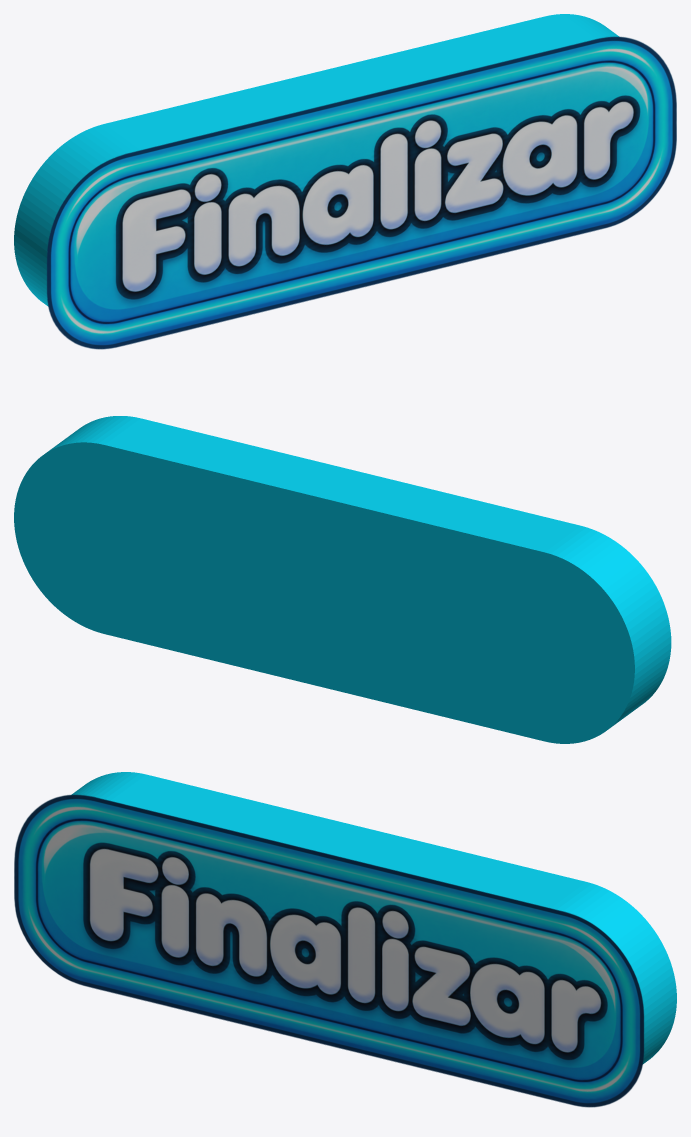
File: Boton_Finalizar.glb
The picture shows the model from 3 angles, top to bottom: view 1: azimuth 30°, elevation 25°; view 2: azimuth 150°, elevation 25°; view 3: azimuth 330°, elevation 25°; orthographic projection.
Parts seen in each view (by area): view 1: Cara_Frontal_Finalizar, Cuerpo_Boton; view 2: Cuerpo_Boton; view 3: Cara_Frontal_Finalizar, Cuerpo_Boton.
Boxes of the visible parts, x1=… form: Cara_Frontal_Finalizar: x1=47, y1=36, x2=676, y2=349; Cuerpo_Boton: x1=14, y1=14, x2=619, y2=306; Cuerpo_Boton: x1=14, y1=416, x2=671, y2=743; Cara_Frontal_Finalizar: x1=14, y1=794, x2=644, y2=1107; Cuerpo_Boton: x1=71, y1=772, x2=676, y2=1064.
Bounding box in the file's own units: 0.12 × 0.0349 × 0.0123.
2 materials, 1 textured.
